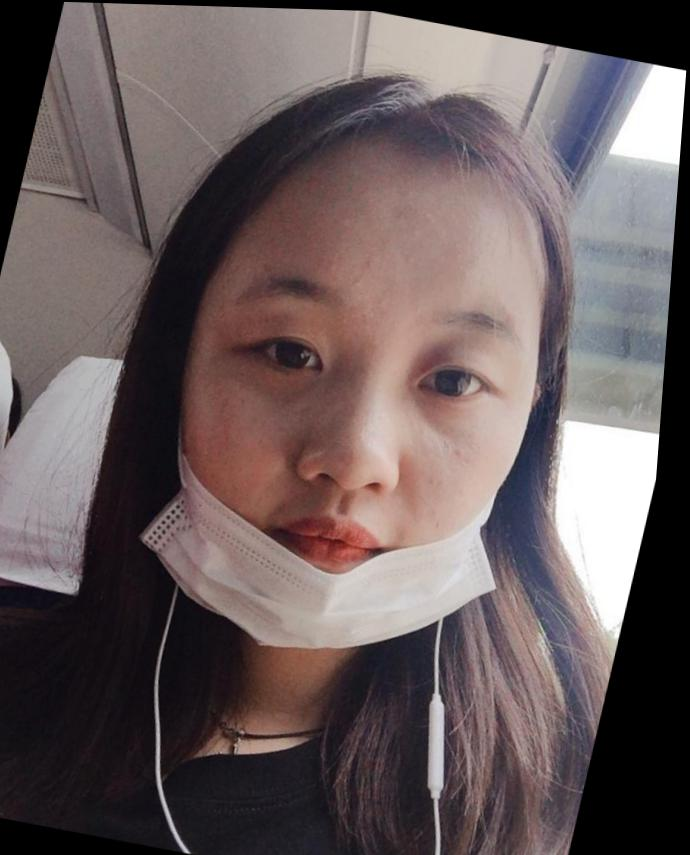WRONG: (130, 200, 561, 661)
